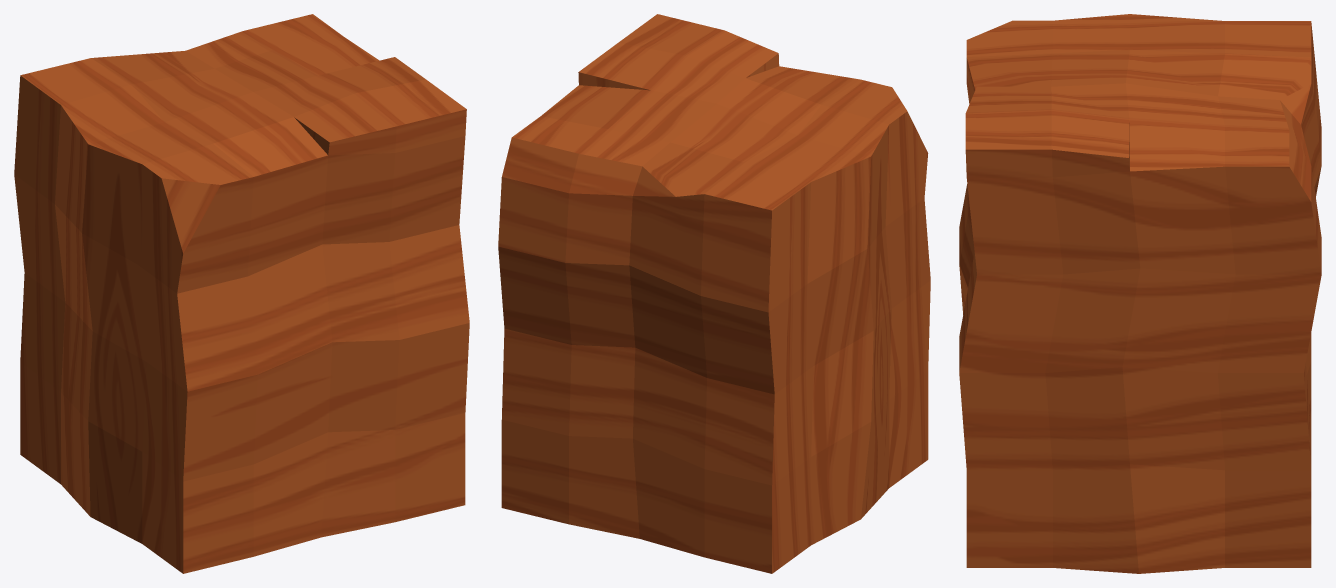
File: corner plank.fbx
3 renders of one model, left to right at view 1: azimuth 30°, elevation 25°; view 2: azimuth 150°, elevation 25°; view 3: azimuth 270°, elevation 25°, orthographic. The views are drawn at different scales.
Parts seen in each view (by area): view 1: Corner_Plank; view 2: Corner_Plank; view 3: Corner_Plank.
Part boxes in pixels (x1,y1,x2,y2): Corner_Plank: (14,14,469,573); Corner_Plank: (498,14,930,573); Corner_Plank: (959,14,1321,573).
Bounding box in the file's own units: 444 × 541 × 421.
